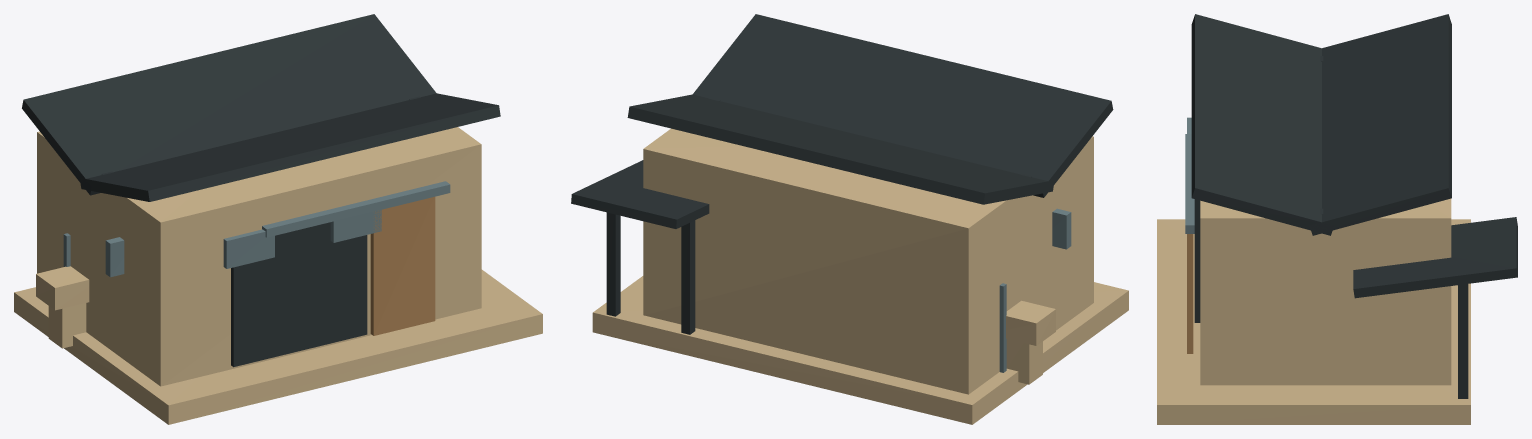
Rendered from Washhouse.glb.
3 renders of one model, left to right at view 1: azimuth 30°, elevation 25°; view 2: azimuth 150°, elevation 25°; view 3: azimuth 270°, elevation 25°, orthographic.
Visible parts, largest first — view 1: washhouse-static-washhouse-charcoal-frame, washhouse-static-washhouse-cream-board-walls, washhouse-static-washhouse-pale-concrete, washhouse-static-washhouse-muted-teal-slider, washhouse-static-washhouse-utility-steel; view 2: washhouse-static-washhouse-cream-board-walls, washhouse-static-washhouse-charcoal-frame, washhouse-static-washhouse-pale-concrete, washhouse-static-washhouse-utility-steel; view 3: washhouse-static-washhouse-charcoal-frame, washhouse-static-washhouse-cream-board-walls, washhouse-static-washhouse-pale-concrete, washhouse-static-washhouse-utility-steel, washhouse-static-washhouse-muted-teal-slider.
Boxes of the visible parts, x1=… form: washhouse-static-washhouse-charcoal-frame: x1=22, y1=14, x2=500, y2=367; washhouse-static-washhouse-cream-board-walls: x1=37, y1=127, x2=481, y2=386; washhouse-static-washhouse-pale-concrete: x1=14, y1=266, x2=542, y2=424; washhouse-static-washhouse-muted-teal-slider: x1=370, y1=196, x2=435, y2=335; washhouse-static-washhouse-utility-steel: x1=63, y1=181, x2=450, y2=277; washhouse-static-washhouse-cream-board-walls: x1=643, y1=128, x2=1093, y2=394; washhouse-static-washhouse-charcoal-frame: x1=571, y1=14, x2=1113, y2=334; washhouse-static-washhouse-pale-concrete: x1=592, y1=276, x2=1128, y2=424; washhouse-static-washhouse-utility-steel: x1=999, y1=208, x2=1071, y2=372; washhouse-static-washhouse-charcoal-frame: x1=1191, y1=14, x2=1517, y2=398; washhouse-static-washhouse-cream-board-walls: x1=1200, y1=198, x2=1451, y2=385; washhouse-static-washhouse-pale-concrete: x1=1157, y1=219, x2=1470, y2=424; washhouse-static-washhouse-utility-steel: x1=1185, y1=117, x2=1194, y2=233; washhouse-static-washhouse-muted-teal-slider: x1=1187, y1=234, x2=1193, y2=353.
Size of the model in its own units: 5.91 by 3.16 by 4.6.
